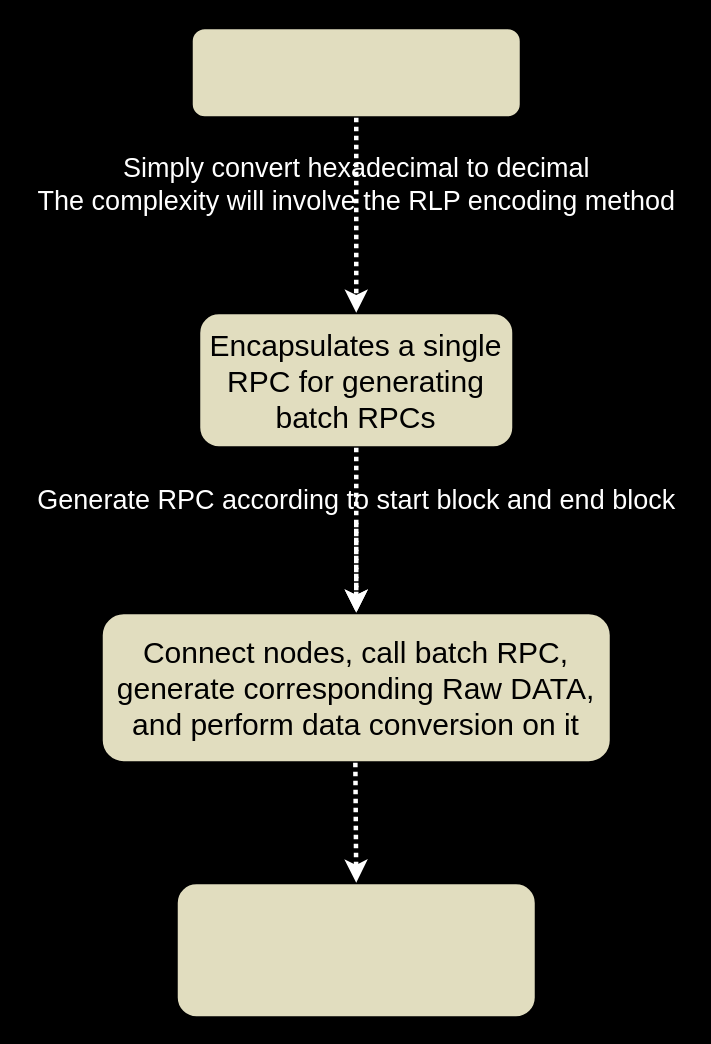
This 711x1044 diagram has some shape labels left out. The shapes that lost their labels are listed below. From the top down, each one's centre as x and y in pixels, then its label:
(x=355, y=72): Define the transformed data structure
(x=355, y=949): Import the converted data as a CSV file, and then import into the database
